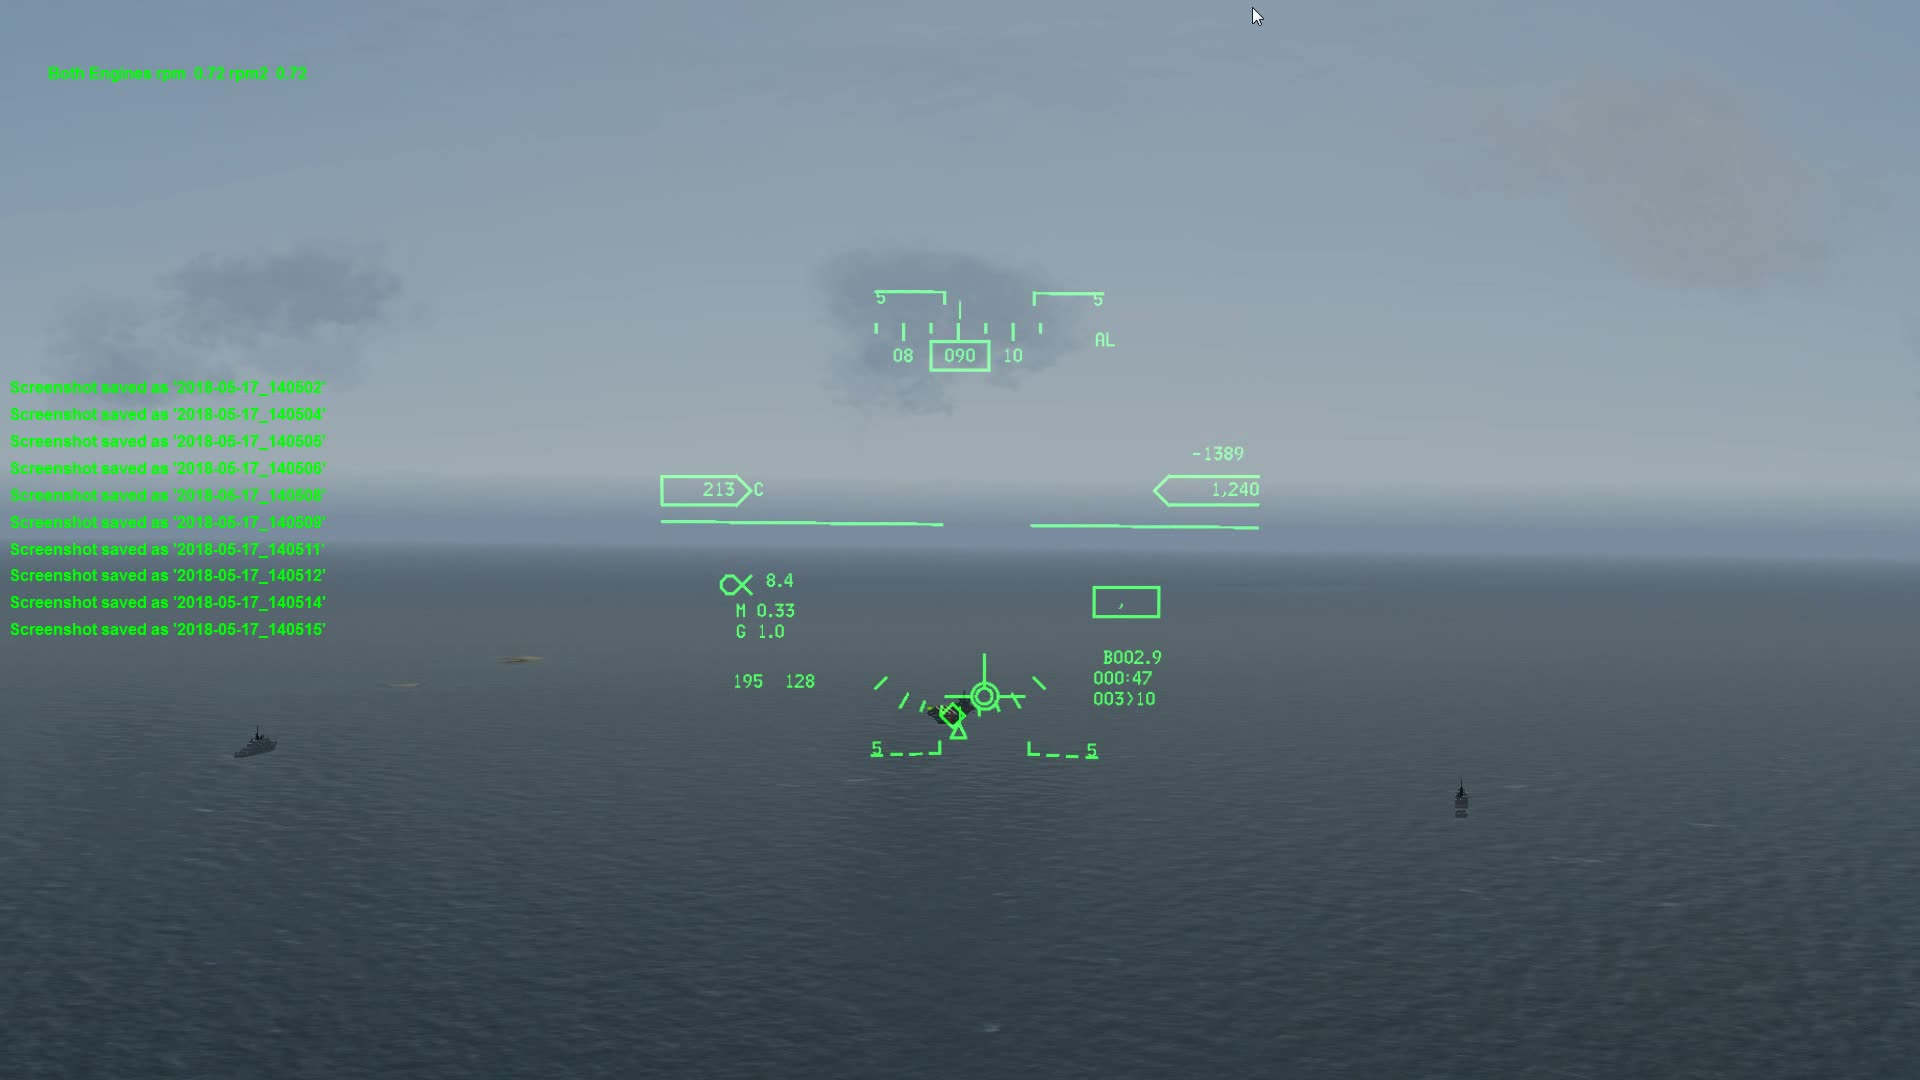speed vector: (938, 632, 1021, 713)
